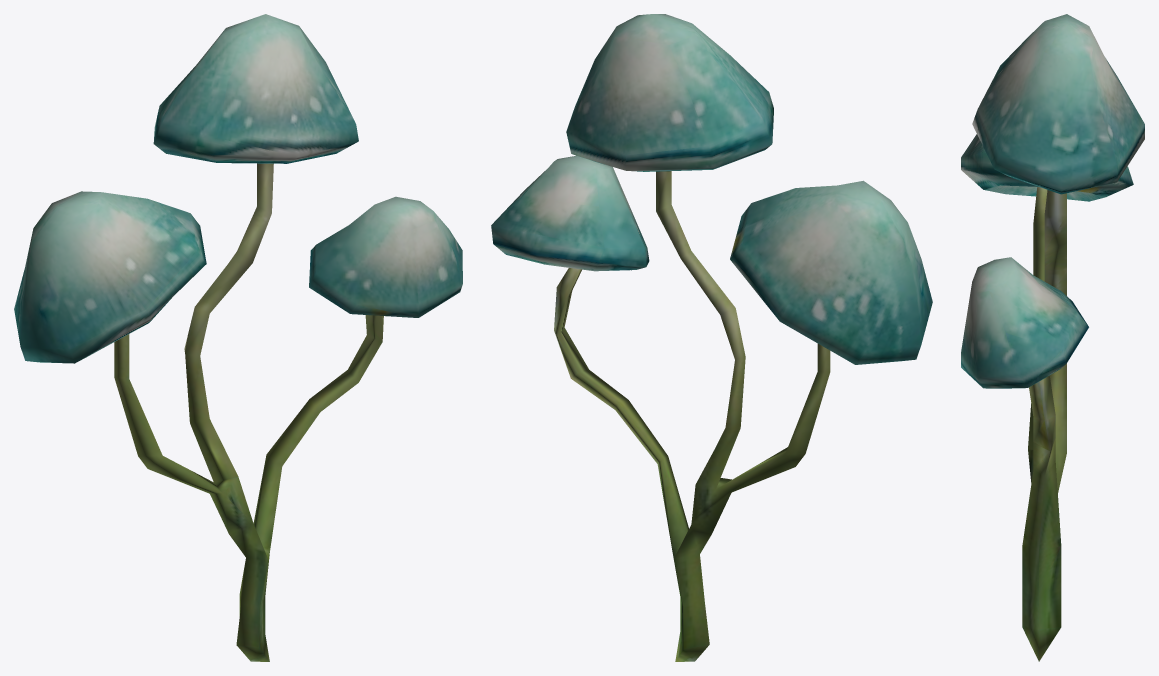
Rendered from Plant04.glb.
3 renders of one model, left to right at view 1: azimuth 30°, elevation 25°; view 2: azimuth 150°, elevation 25°; view 3: azimuth 270°, elevation 25°, orthographic. The views are drawn at different scales.
Visible parts, largest first — view 1: Plants.004; view 2: Plants.004; view 3: Plants.004.
Part boxes in pixels (left/top/right/bottom): Plants.004: left=14, top=14, right=462, bottom=661; Plants.004: left=491, top=14, right=932, bottom=661; Plants.004: left=961, top=14, right=1144, bottom=661.
Bounding box in the file's own units: 1.09 × 1.56 × 0.4055.
Materials: 1 (1 with a texture image).
